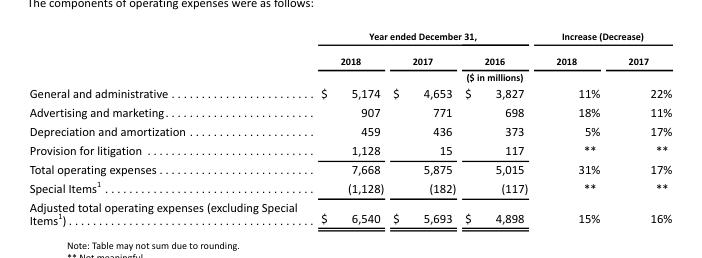table: (28, 28, 671, 226)
table column: (28, 28, 308, 226), (459, 28, 541, 226), (308, 28, 387, 226), (387, 28, 459, 226), (541, 28, 613, 226), (613, 28, 671, 226)
table column header: (28, 28, 671, 84)
table row: (28, 197, 671, 226), (28, 47, 671, 68), (28, 177, 671, 197), (28, 28, 671, 47), (28, 102, 671, 121), (28, 121, 671, 140), (28, 140, 671, 159), (28, 84, 671, 102), (28, 159, 671, 177), (28, 68, 671, 84)
table spanning cell: (308, 68, 671, 84), (308, 28, 541, 47), (541, 28, 671, 47)
